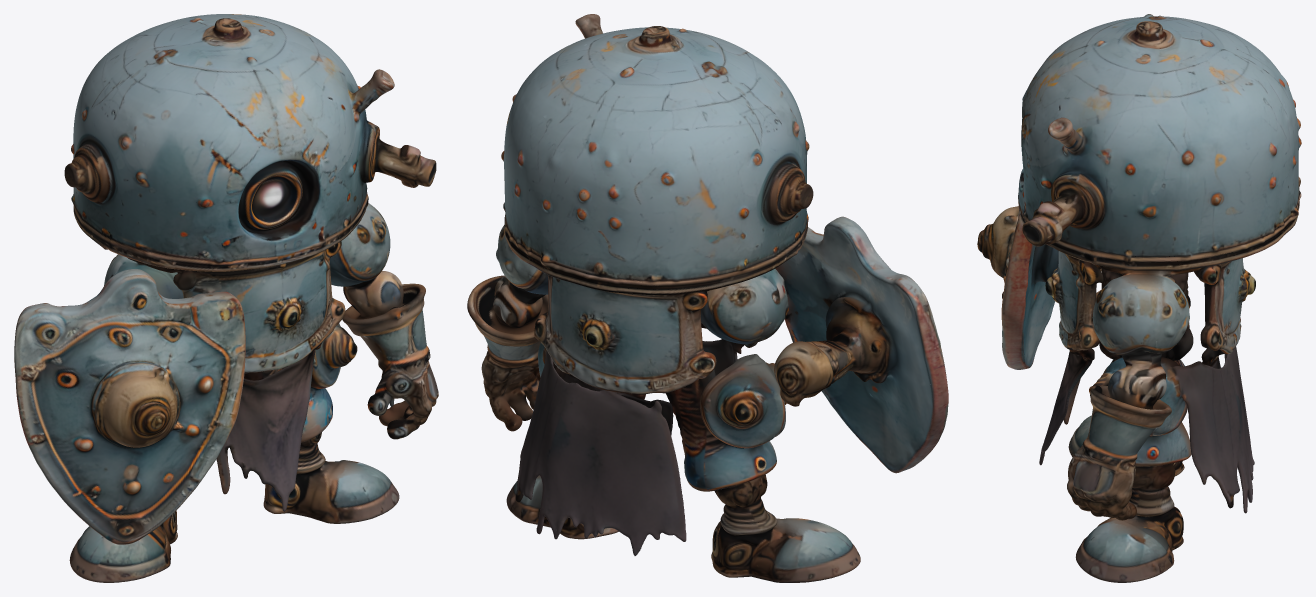
Rendered from hero05.glb.
3 renders of one model, left to right at view 1: azimuth 30°, elevation 25°; view 2: azimuth 150°, elevation 25°; view 3: azimuth 270°, elevation 25°, orthographic. The views are drawn at different scales.
Parts seen in each view (by area): view 1: texture_v128_online.001; view 2: texture_v128_online.001; view 3: texture_v128_online.001.
Boxes of the visible parts, x1,y1,x2,y2 form: texture_v128_online.001: [14, 14, 438, 582]; texture_v128_online.001: [467, 14, 948, 582]; texture_v128_online.001: [977, 14, 1301, 582].
Size of the model in its own units: 1.81 by 2 by 1.21.
1 material, 1 textured.
